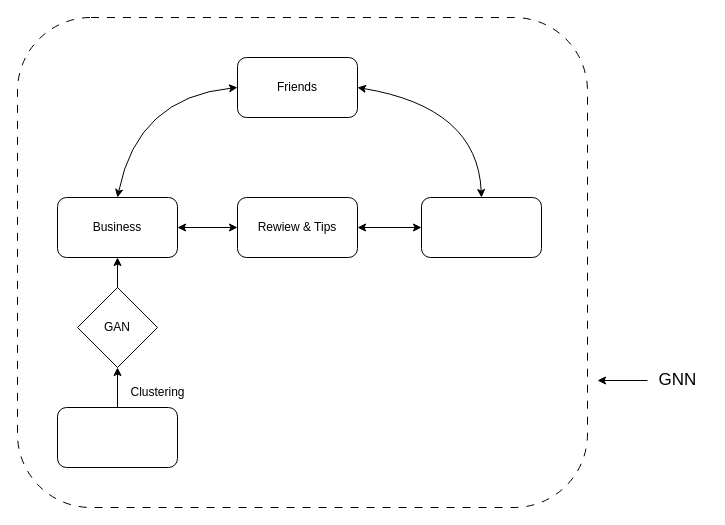
Some shapes in this 725 by 525 pixel diagram are drawn without their labels. Here are the shapes that lost their labels. From the top down, the centre of each, then its label:
the point at 481,227: User
the point at 117,437: Photo
